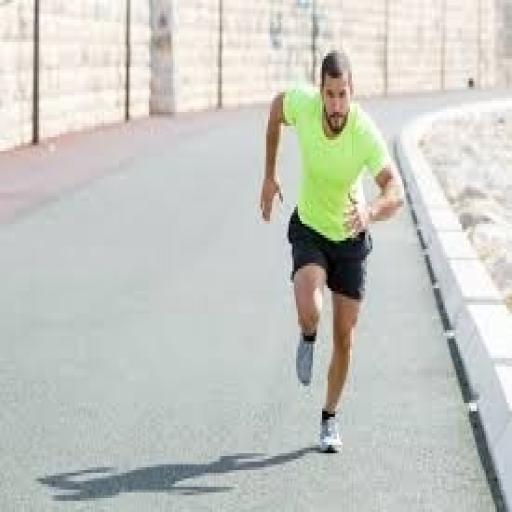running: (257, 48, 408, 456)
